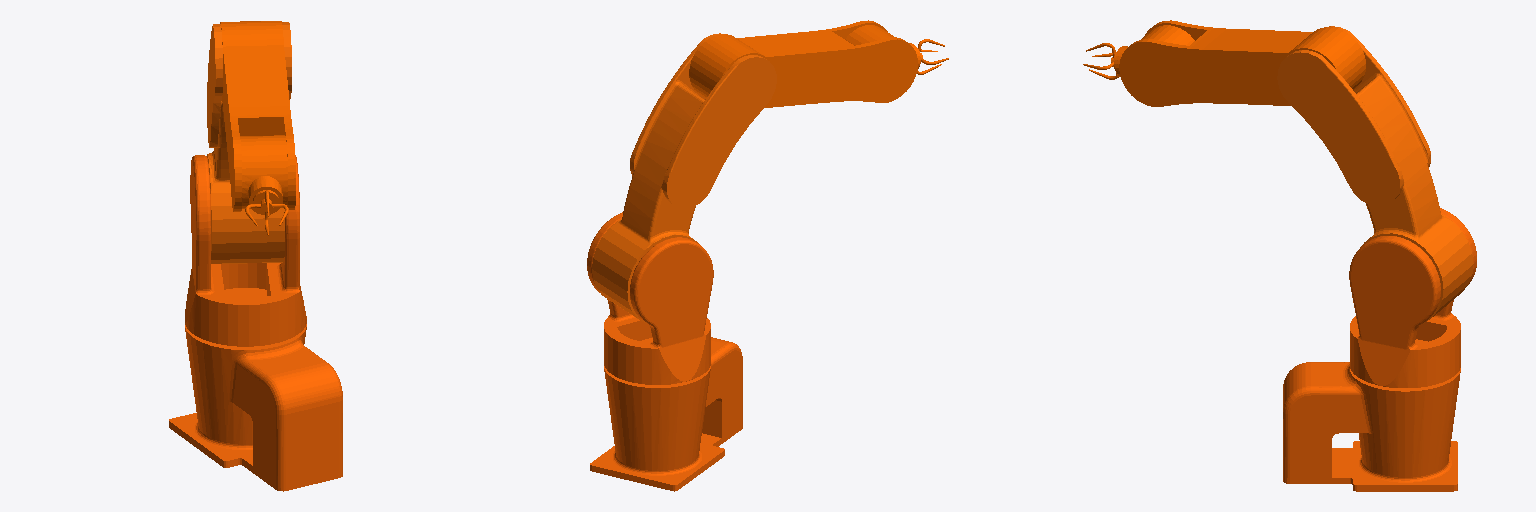
robot.urdf — 3 DOF robot:
<?xml version="1.0" encoding="utf-8"?>
<!-- This URDF was automatically created by SolidWorks to URDF Exporter! Originally created by [author] ([email redacted]) 
     Commit Version: 1.6.0-4-g7f85cfe  Build Version: 1.6.7995.38578
     For more information, please see http://wiki.ros.org/sw_urdf_exporter -->
<robot
  name="3 DOF robot">
  <link
    name="base_link">
    <inertial>
      <origin
        xyz="0.251532050940041 0.0701979202842479 0.359310624531619"
        rpy="0 0 0" />
      <mass
        value="3.88752469233175" />
      <inertia
        ixx="0.0268289837309763"
        ixy="2.89477841845571E-09"
        ixz="2.89339991797108E-09"
        iyy="0.0230574349994242"
        iyz="0.000935194537012237"
        izz="0.0128847947303088" />
    </inertial>
    <visual>
      <origin
        xyz="0 0 0"
        rpy="0 0 0" />
      <geometry>
        <mesh
          filename="package://3 DOF robot/meshes/base_link.STL" />
      </geometry>
      <material
        name="">
        <color
          rgba="1 0.43921568627451 0.0588235294117647 1" />
      </material>
    </visual>
    <collision>
      <origin
        xyz="0 0 0"
        rpy="0 0 0" />
      <geometry>
        <mesh
          filename="package://3 DOF robot/meshes/base_link.STL" />
      </geometry>
    </collision>
  </link>
  <link
    name="link1">
    <inertial>
      <origin
        xyz="-0.00431770506626641 0.0942358661734446 6.92764473564367E-09"
        rpy="0 0 0" />
      <mass
        value="1.63775424213227" />
      <inertia
        ixx="0.0114194651511373"
        ixy="0.000584447225967701"
        ixz="-9.76548414702294E-09"
        iyy="0.00670627003073467"
        iyz="1.03171973164699E-09"
        izz="0.00978920780009101" />
    </inertial>
    <visual>
      <origin
        xyz="0 0 0"
        rpy="0 0 0" />
      <geometry>
        <mesh
          filename="package://3 DOF robot/meshes/link1.STL" />
      </geometry>
      <material
        name="">
        <color
          rgba="1 0.43921568627451 0.0588235294117647 1" />
      </material>
    </visual>
    <collision>
      <origin
        xyz="0 0 0"
        rpy="0 0 0" />
      <geometry>
        <mesh
          filename="package://3 DOF robot/meshes/link1.STL" />
      </geometry>
    </collision>
  </link>
  <joint
    name="joint0"
    type="continuous">
    <origin
      xyz="0.25153 -0.31686 0.13783"
      rpy="1.5708 0 -2.0361" />
    <parent
      link="base_link" />
    <child
      link="link1" />
    <axis
      xyz="0 1 0" />
  </joint>
  <link
    name="link2">
    <inertial>
      <origin
        xyz="-2.17496941012918E-08 0.0819375998870129 0.0513710362900058"
        rpy="0 0 0" />
      <mass
        value="3.25574348179828" />
      <inertia
        ixx="0.0419730805175664"
        ixy="1.14920789204276E-08"
        ixz="8.31266282370902E-09"
        iyy="0.0177044025775551"
        iyz="-0.0164990308618694"
        izz="0.0297938242387583" />
    </inertial>
    <visual>
      <origin
        xyz="0 0 0"
        rpy="0 0 0" />
      <geometry>
        <mesh
          filename="package://3 DOF robot/meshes/link2.STL" />
      </geometry>
      <material
        name="">
        <color
          rgba="1 0.470588235294118 0.0588235294117647 1" />
      </material>
    </visual>
    <collision>
      <origin
        xyz="0 0 0"
        rpy="0 0 0" />
      <geometry>
        <mesh
          filename="package://3 DOF robot/meshes/link2.STL" />
      </geometry>
    </collision>
  </link>
  <joint
    name="joint1"
    type="continuous">
    <origin
      xyz="-0.012663 0.17151 0"
      rpy="1.3371 1.5708 1.5779" />
    <parent
      link="link1" />
    <child
      link="link2" />
    <axis
      xyz="1 0 0" />
  </joint>
  <link
    name="link3">
    <inertial>
      <origin
        xyz="4.01503236768797E-08 -0.00014312159261809 -0.125665772481465"
        rpy="0 0 0" />
      <mass
        value="2.27512373286688" />
      <inertia
        ixx="0.0250481836013035"
        ixy="-3.06424784417975E-10"
        ixz="1.3289809578992E-08"
        iyy="0.0249274935989847"
        iyz="-3.13109591311659E-05"
        izz="0.00261096135176402" />
    </inertial>
    <visual>
      <origin
        xyz="0 0 0"
        rpy="0 0 0" />
      <geometry>
        <mesh
          filename="package://3 DOF robot/meshes/link3.STL" />
      </geometry>
      <material
        name="">
        <color
          rgba="1 0.454901960784314 0.0274509803921569 1" />
      </material>
    </visual>
    <collision>
      <origin
        xyz="0 0 0"
        rpy="0 0 0" />
      <geometry>
        <mesh
          filename="package://3 DOF robot/meshes/link3.STL" />
      </geometry>
    </collision>
  </link>
  <joint
    name="joint2"
    type="continuous">
    <origin
      xyz="0 0.23874 0.20835"
      rpy="2.7325 0 3.1416" />
    <parent
      link="link2" />
    <child
      link="link3" />
    <axis
      xyz="1 0 0" />
  </joint>
</robot>

--- Facts derived from the render (not from the file) ---
The picture shows the robot from 3 angles, left to right: view 1: azimuth 30°, elevation 25°; view 2: azimuth 150°, elevation 25°; view 3: azimuth 270°, elevation 25°; orthographic projection.
Robot: 3 DOF robot — 4 links, 3 joints (3 continuous); root link base_link; default pose: all joints at 0.
Visible links, largest first — view 1: base_link, link3, link1, link2; view 2: link2, base_link, link3, link1; view 3: link2, base_link, link3, link1.
Boxes of the visible links, x1=… form: base_link: x1=169, y1=324, x2=342, y2=491; link3: x1=220, y1=21, x2=295, y2=235; link1: x1=185, y1=155, x2=306, y2=346; link2: x1=207, y1=22, x2=291, y2=263; link2: x1=592, y1=33, x2=776, y2=323; base_link: x1=590, y1=337, x2=742, y2=491; link3: x1=689, y1=20, x2=948, y2=107; link1: x1=587, y1=212, x2=713, y2=384; link2: x1=1277, y1=26, x2=1473, y2=323; base_link: x1=1283, y1=362, x2=1460, y2=491; link3: x1=1083, y1=20, x2=1365, y2=106; link1: x1=1349, y1=208, x2=1476, y2=387.
Bounding box of the posed robot: 0.3389 × 0.5653 × 0.6529 m (x, y, z).
4 mesh visuals loaded from 4 distinct referenced files (4 binary STL).